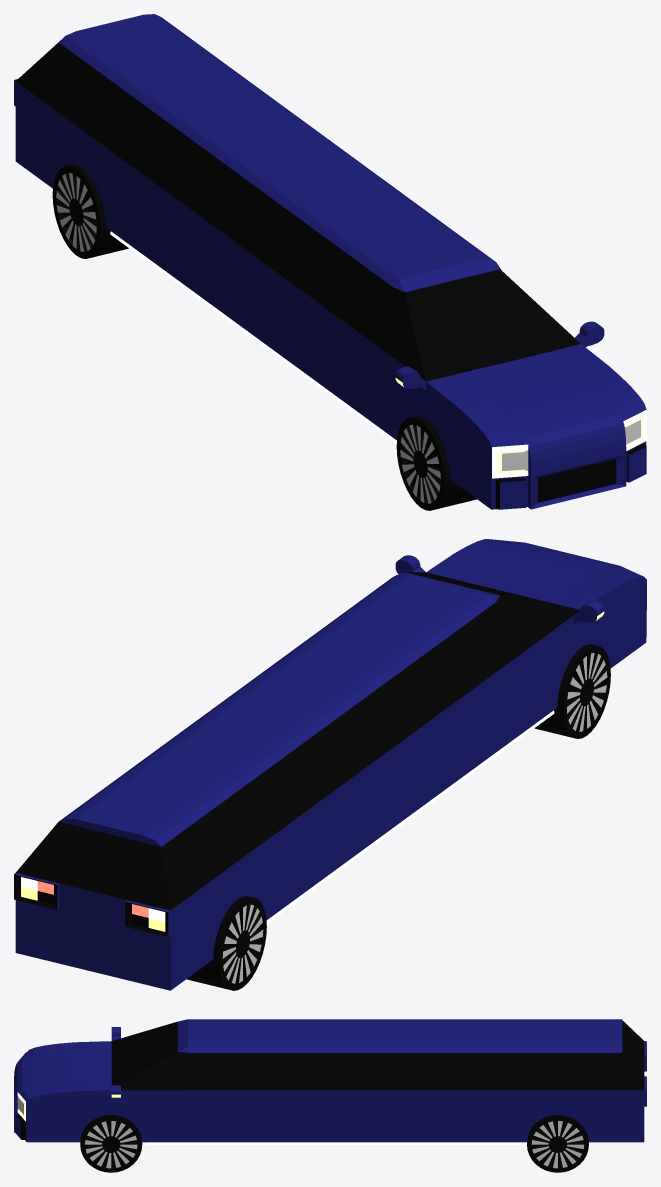
The model's file is Z Limo USEUpdatedRotation.glb.
3 renders of one model, top to bottom at view 1: azimuth 30°, elevation 25°; view 2: azimuth 150°, elevation 25°; view 3: azimuth 270°, elevation 25°, orthographic. The views are drawn at different scales.
Parts seen in each view (by area): view 1: Cube; view 2: Cube; view 3: Cube.
Boxes of the visible parts, <box> form: Cube: <box>14,14,646,510</box>; Cube: <box>14,539,646,990</box>; Cube: <box>14,1019,646,1172</box>.
Bounding box in the file's own units: 3.94 × 3.3 × 16.53.
